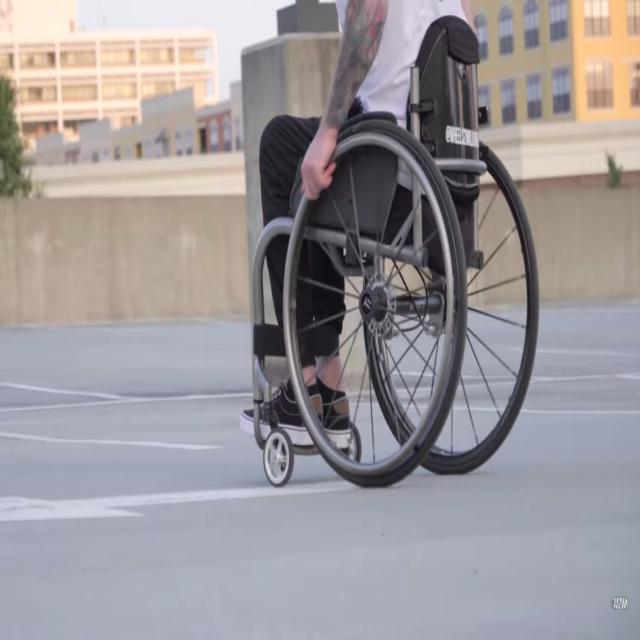wheelchairs: (239, 105, 533, 487)
